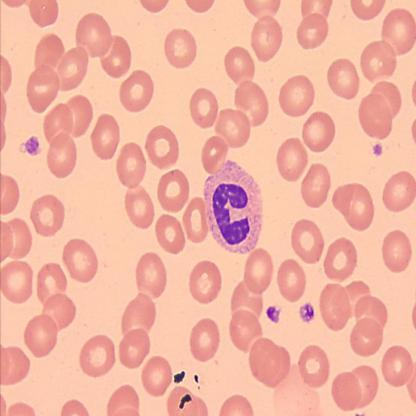Band Neutrophil: (202, 157, 266, 257)
